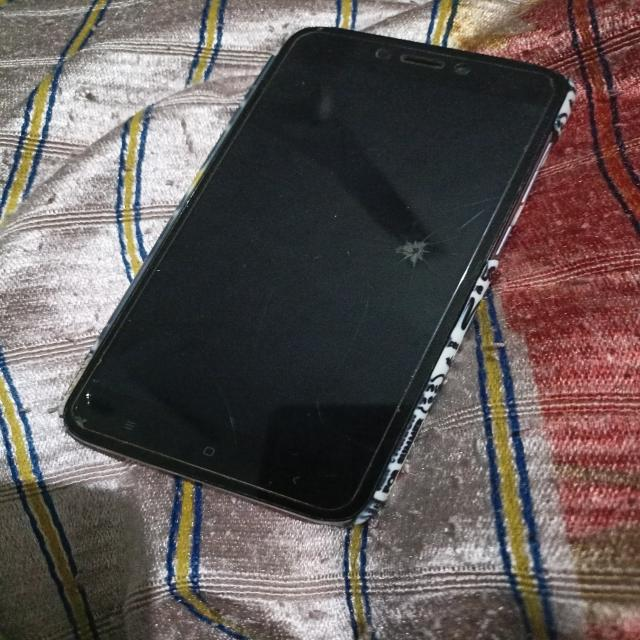Crack: (385, 230, 440, 296)
